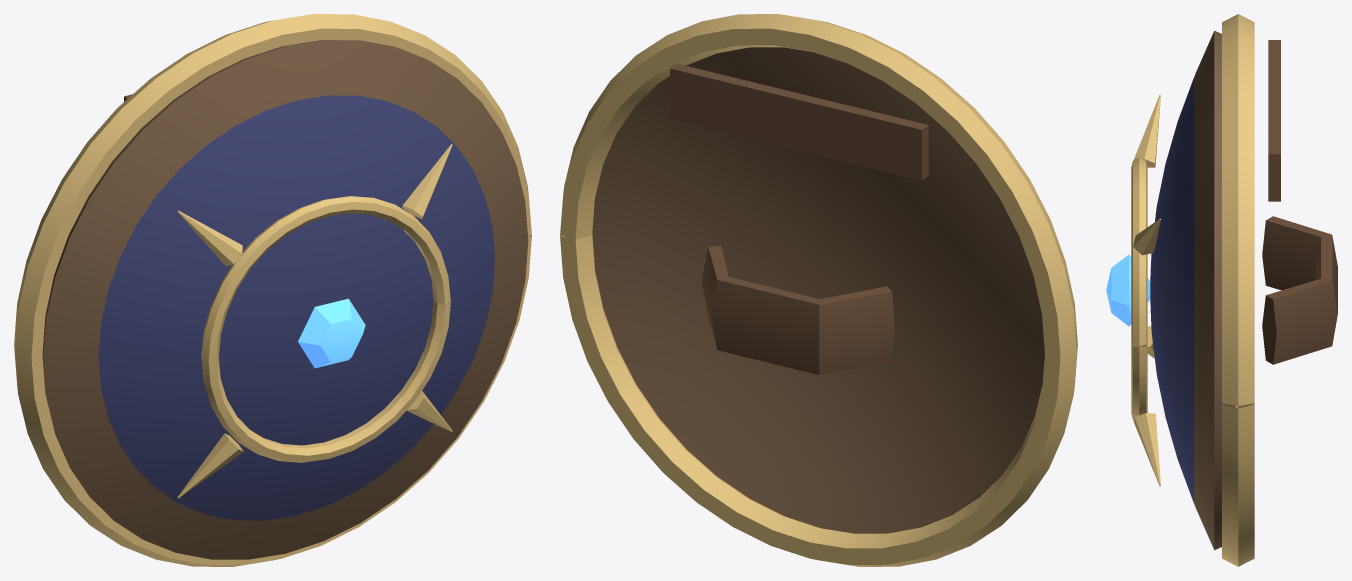
File: sigil_buckler.glb
3 views of the same model, side by side, from view 1: azimuth 30°, elevation 25°; view 2: azimuth 150°, elevation 25°; view 3: azimuth 270°, elevation 25° (orthographic). The views are drawn at different scales.
Visible parts, largest first — view 1: sigil_buckler; view 2: sigil_buckler; view 3: sigil_buckler.
Part boxes in pixels (x1,y1,x2,y2): sigil_buckler: (14, 14, 531, 566); sigil_buckler: (560, 14, 1077, 566); sigil_buckler: (1106, 14, 1337, 566).
Size of the model in its own units: 0.532 by 0.532 by 0.2227.
